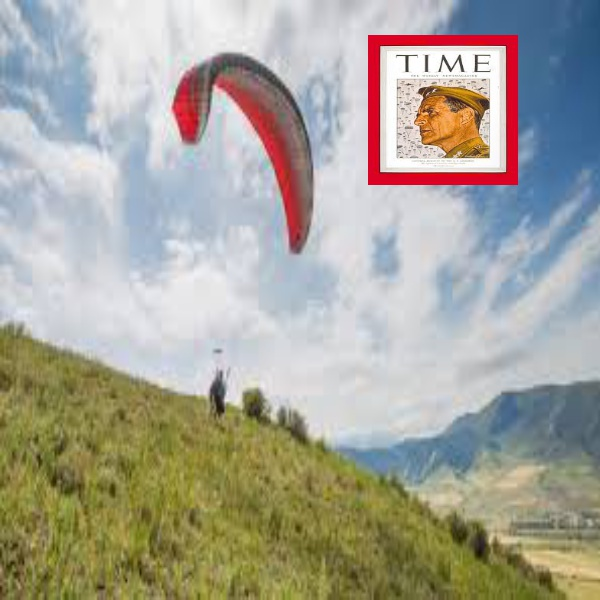time_cover: (362, 32, 525, 185)
